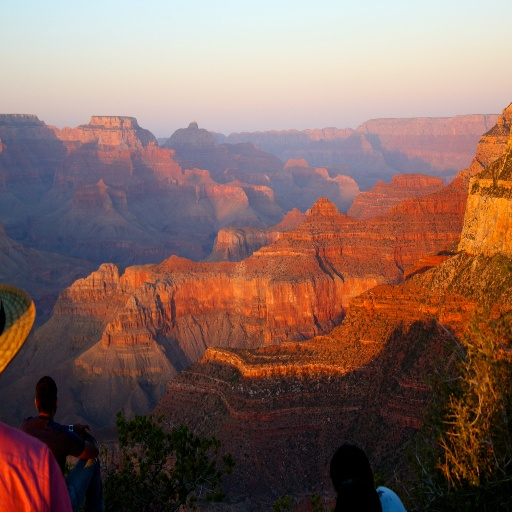hand: (75, 423, 98, 442)
